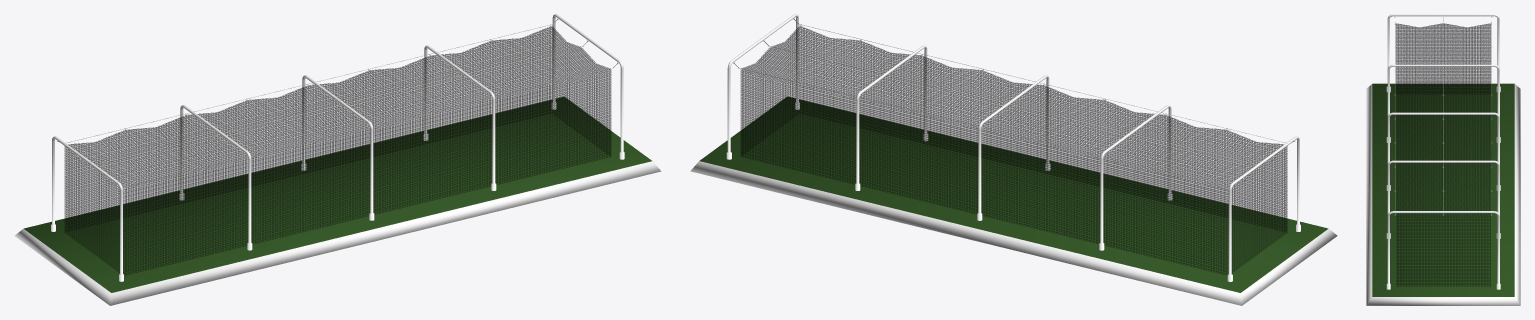
The model's file is Outdoor Varsity 70.glb.
The picture shows the model from 3 angles, left to right: view 1: azimuth 30°, elevation 25°; view 2: azimuth 150°, elevation 25°; view 3: azimuth 270°, elevation 25°; orthographic projection. The views are drawn at different scales.
Visible parts, largest first — view 1: Playground.003; view 2: Playground.003; view 3: Playground.003.
Boxes of the visible parts, bbox=[...] form: Playground.003: bbox=[14, 14, 661, 305]; Playground.003: bbox=[690, 14, 1337, 305]; Playground.003: bbox=[1366, 14, 1520, 305].
Bounding box in the file's own units: 23.8 × 4.33 × 7.16.
Materials: 5 (1 with a texture image).
